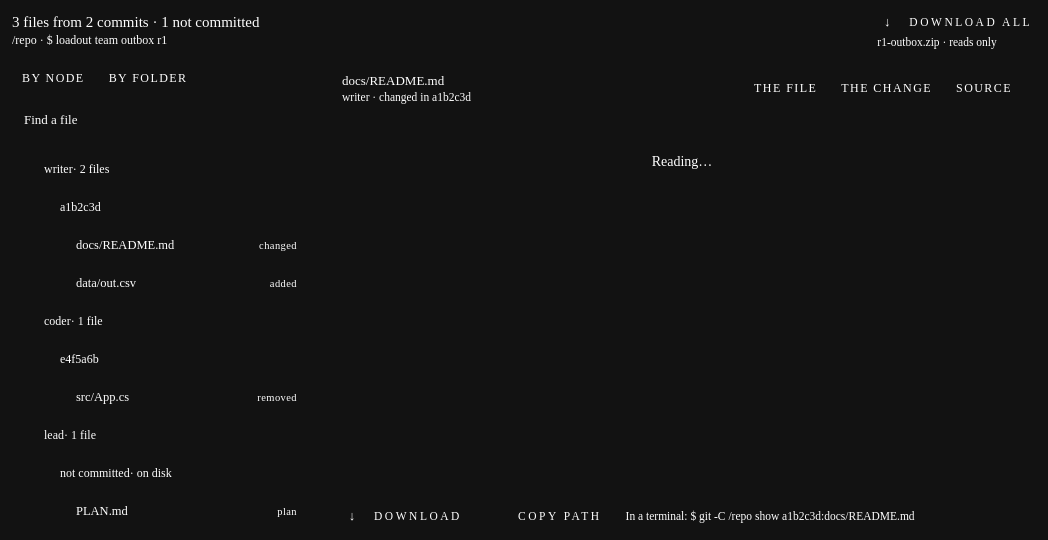
Outbox › filters the tree as you type
Type "csv" into the search field labelled "Find a file" at (162, 120), box [12, 102, 312, 138]
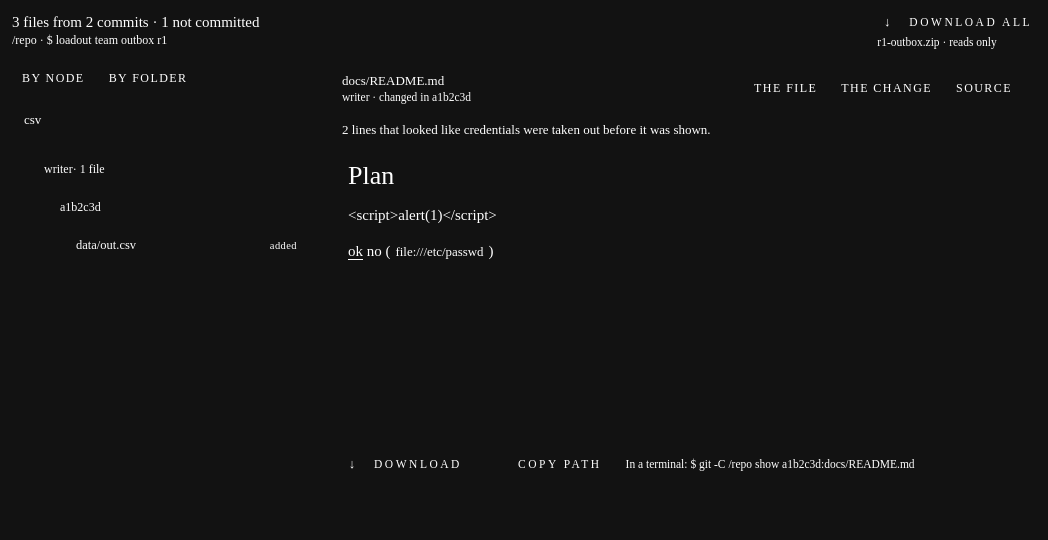
Replace the text in the search field named "Find a file" with "nothing-like-this" at (162, 120), box [12, 102, 312, 138]
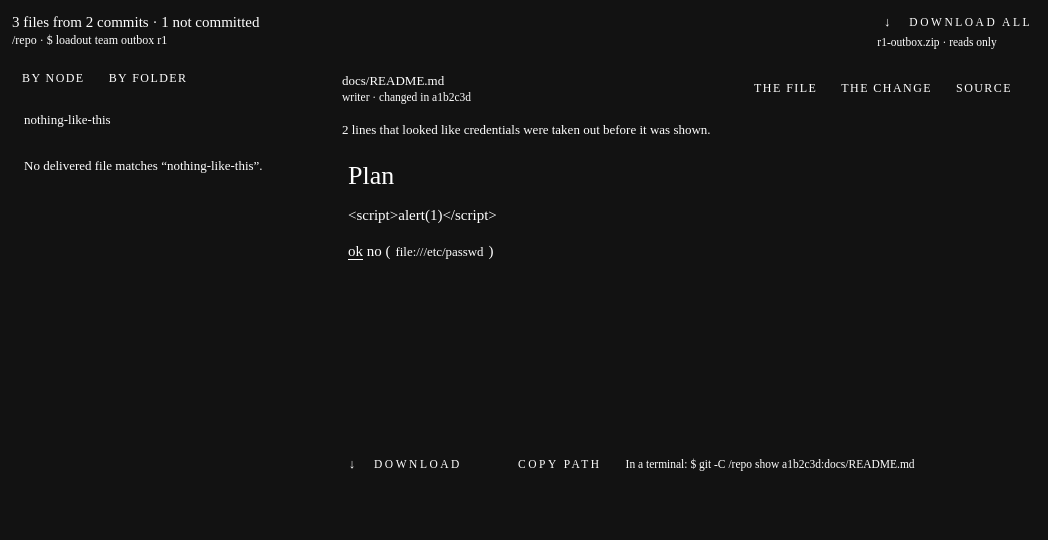
Result: the text "No delivered file matches “nothing-like-this”." is shown at [24, 158, 263, 173]
